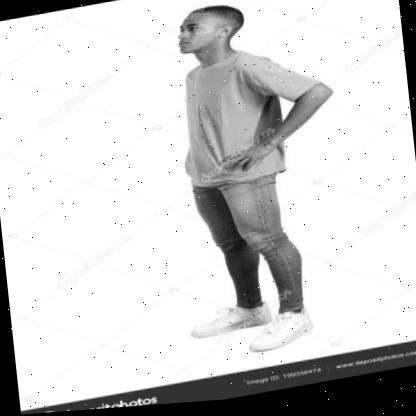person: (167, 0, 346, 355)
